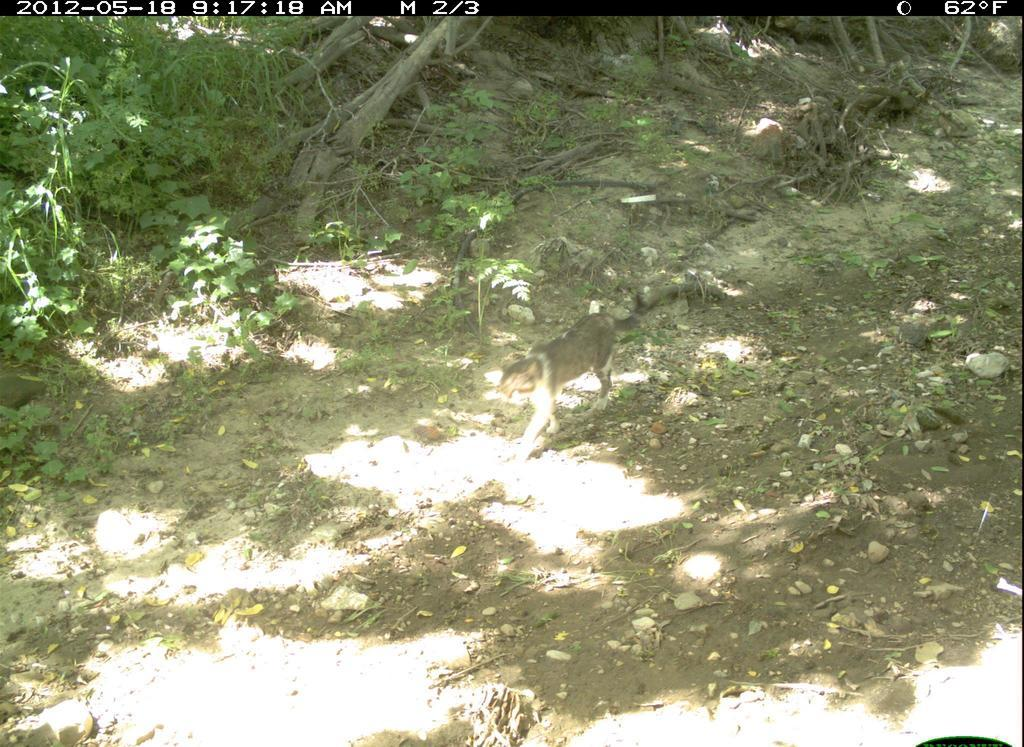cat: (495, 274, 656, 477)
